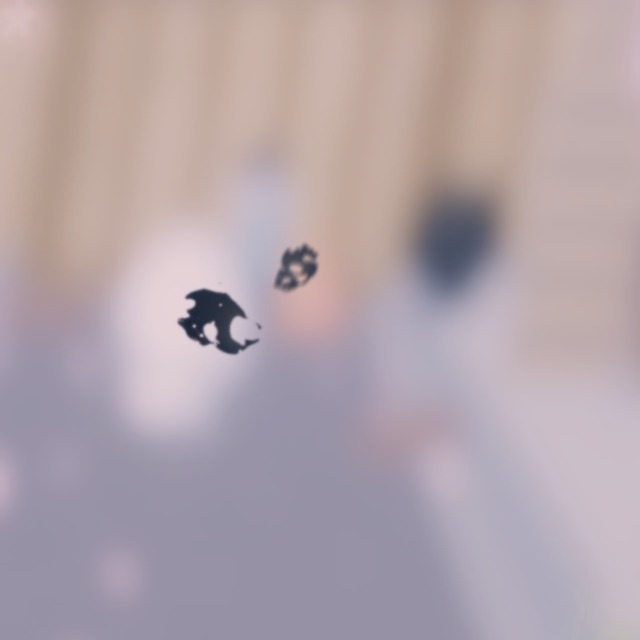urso_preto: (152, 258, 285, 386), (260, 236, 327, 306)
